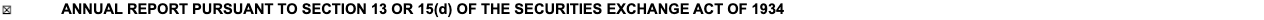table column: (60, 0, 1264, 20), (0, 0, 60, 20)
table row: (0, 0, 1264, 20)
